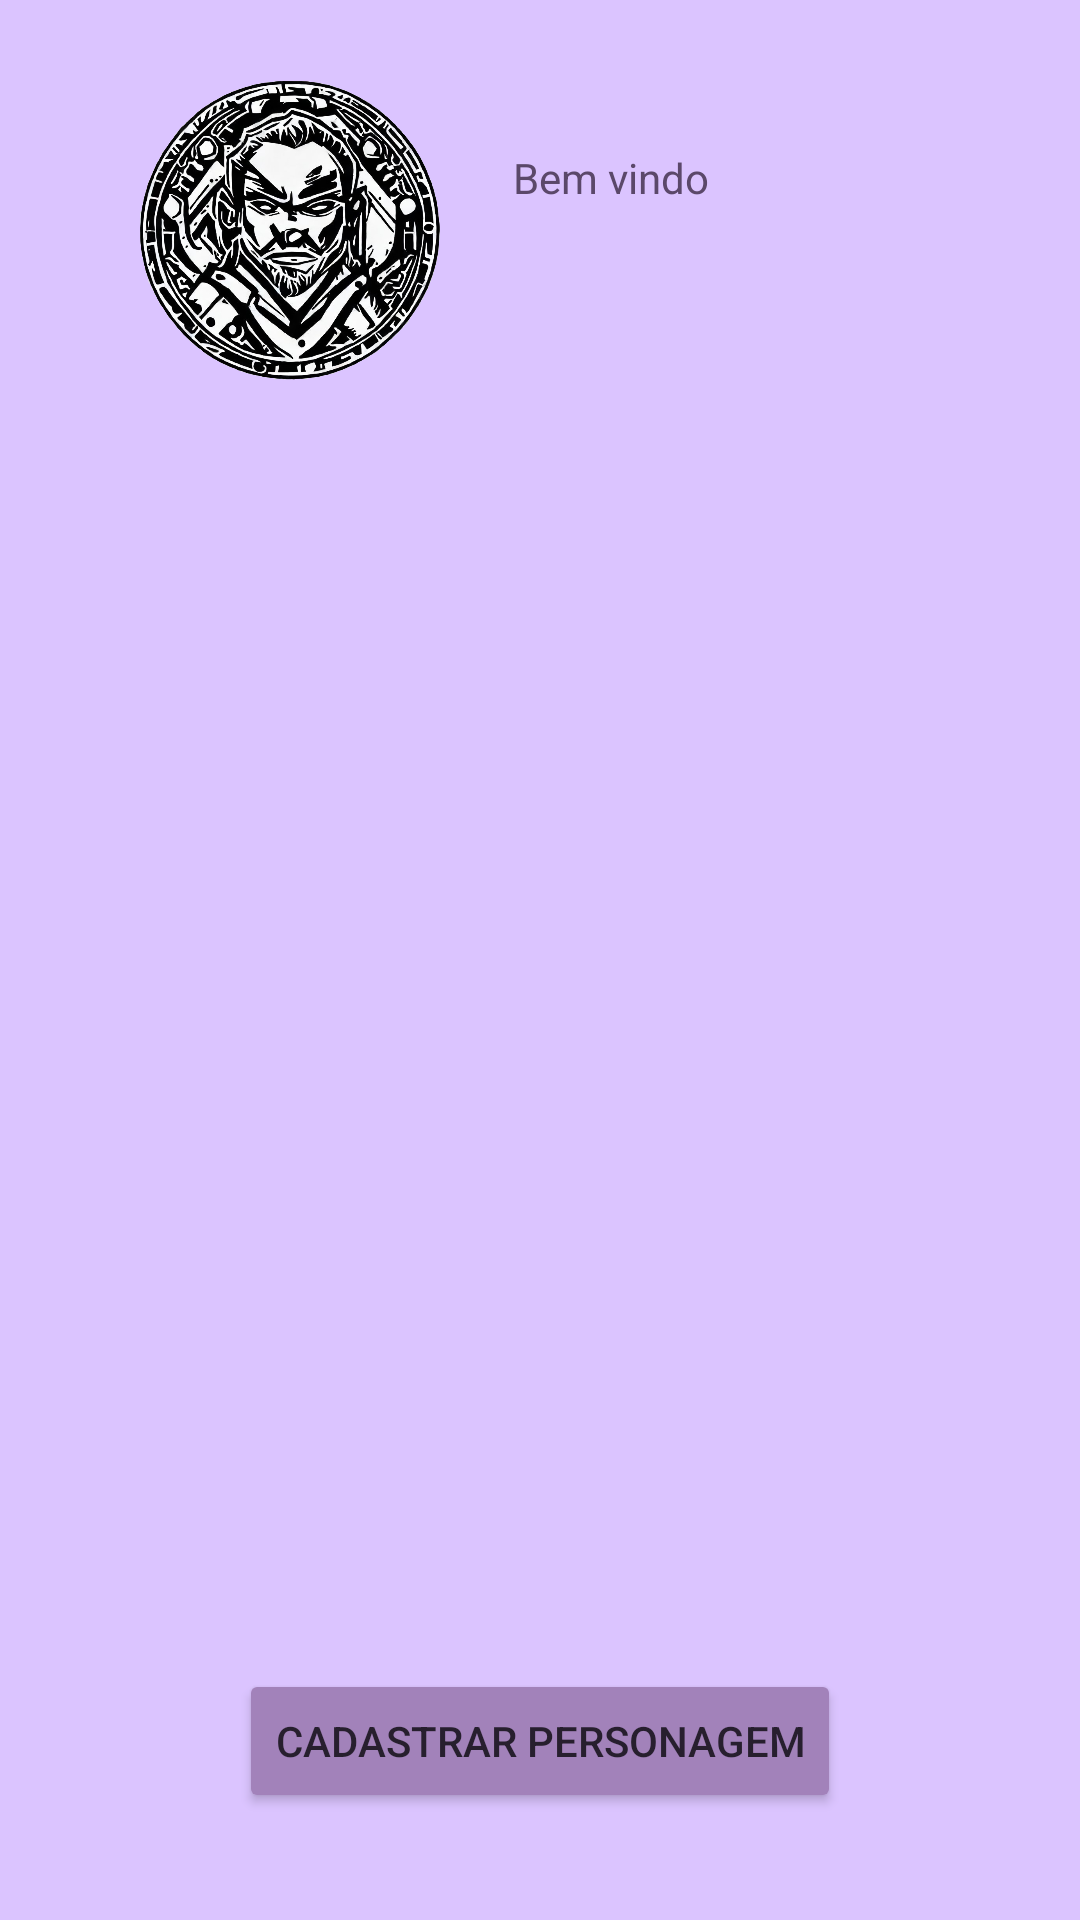

Named icons in this screenshot (1080x1920) and their bounding boxes, (x1, y1, x2, y2):
user: (140, 81, 440, 380)
